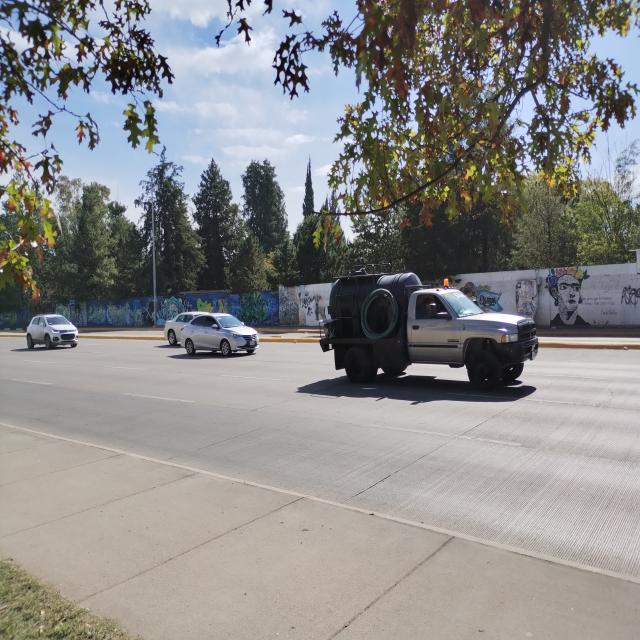Auto: (320, 263, 539, 388), (180, 311, 260, 354), (26, 312, 80, 353)
